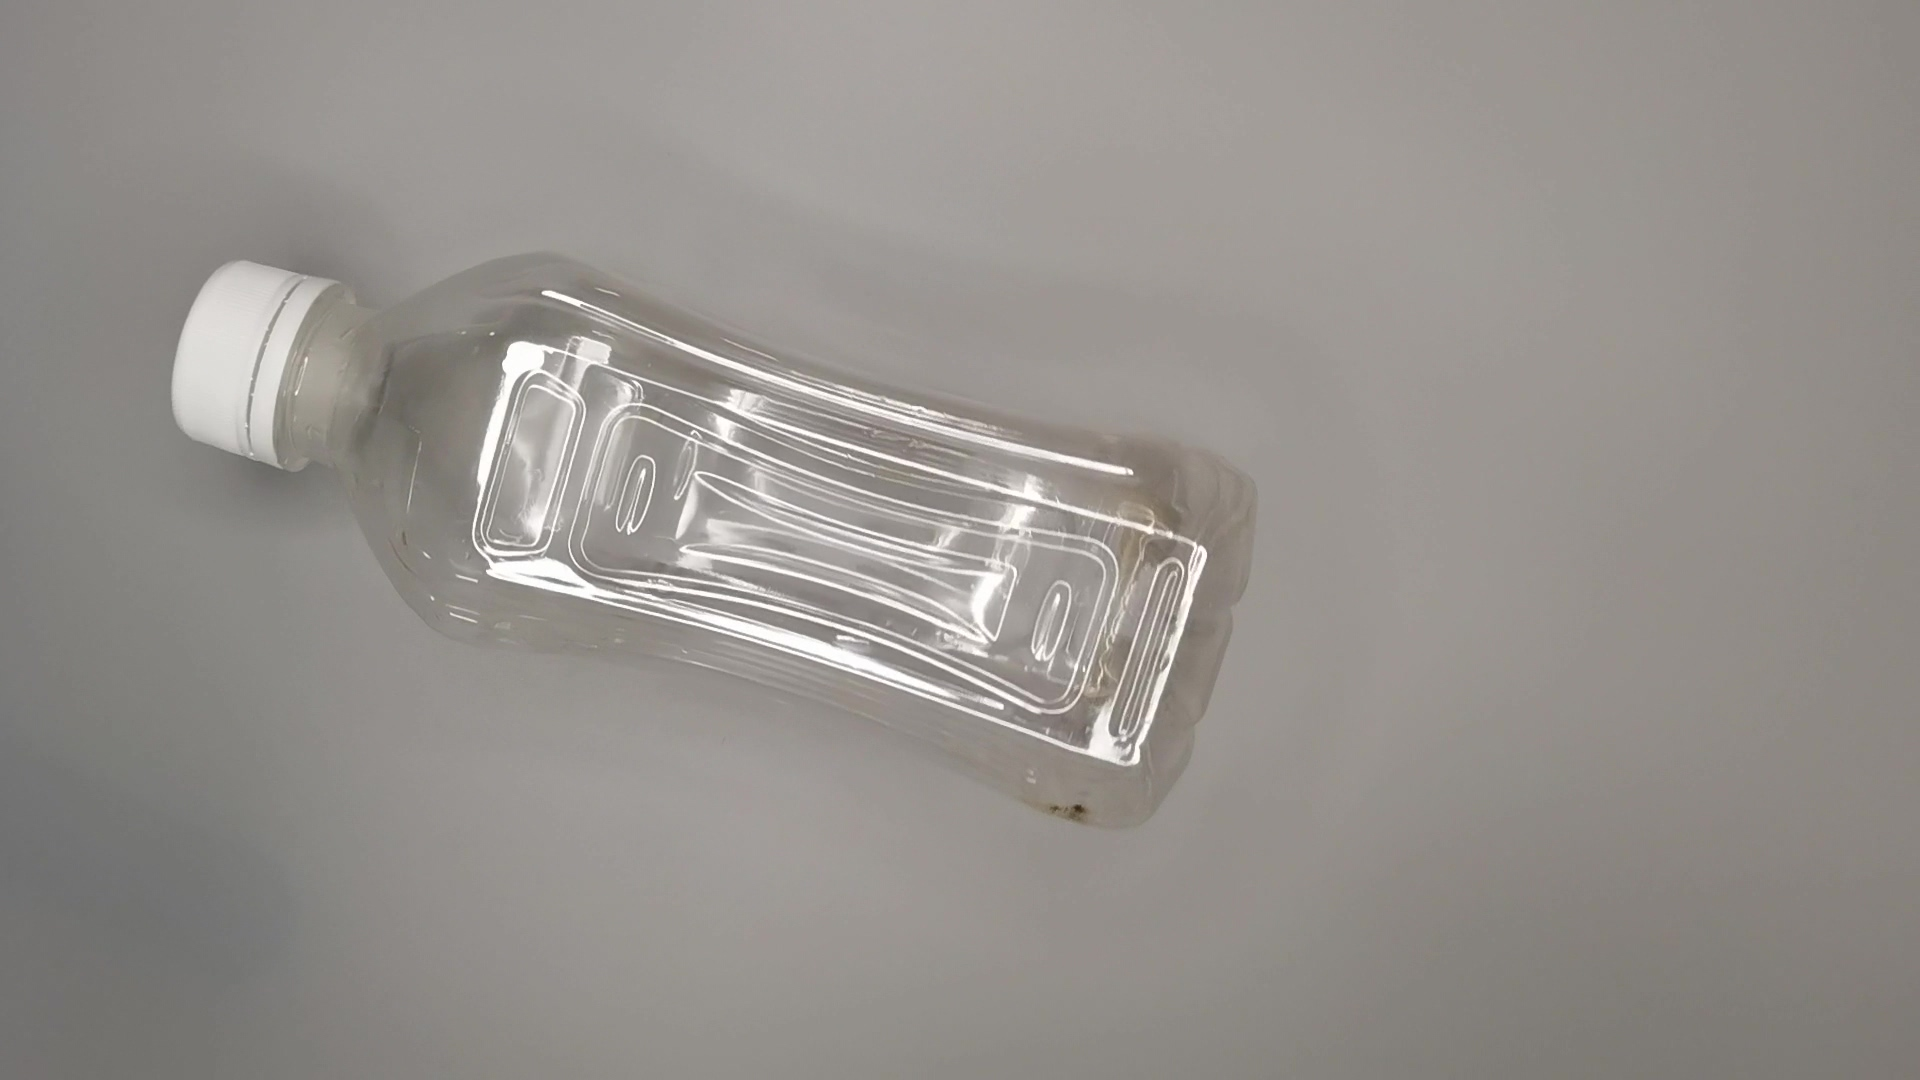bottle: (164, 248, 1270, 843)
